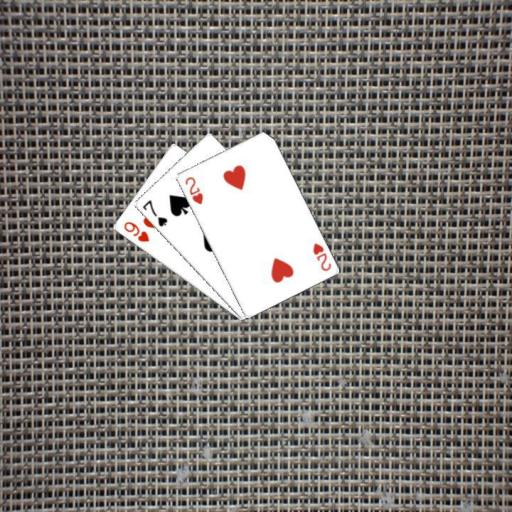2H: (309, 240, 332, 272), (182, 174, 204, 206)
7S: (139, 197, 169, 228)
9H: (120, 219, 151, 244)
